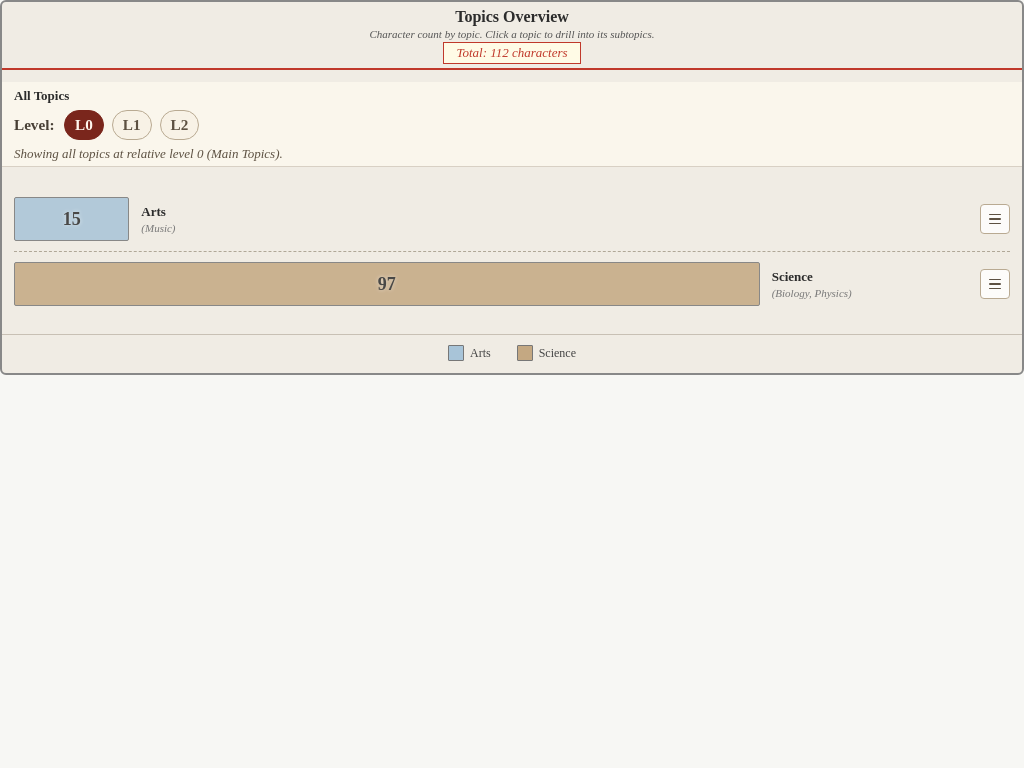
TopicsBarChart › opens a modal with the scoped topic sentences
Click the button named "View sentences for Science": coordinates (995, 284) x1=980 y1=269 x2=1010 y2=299
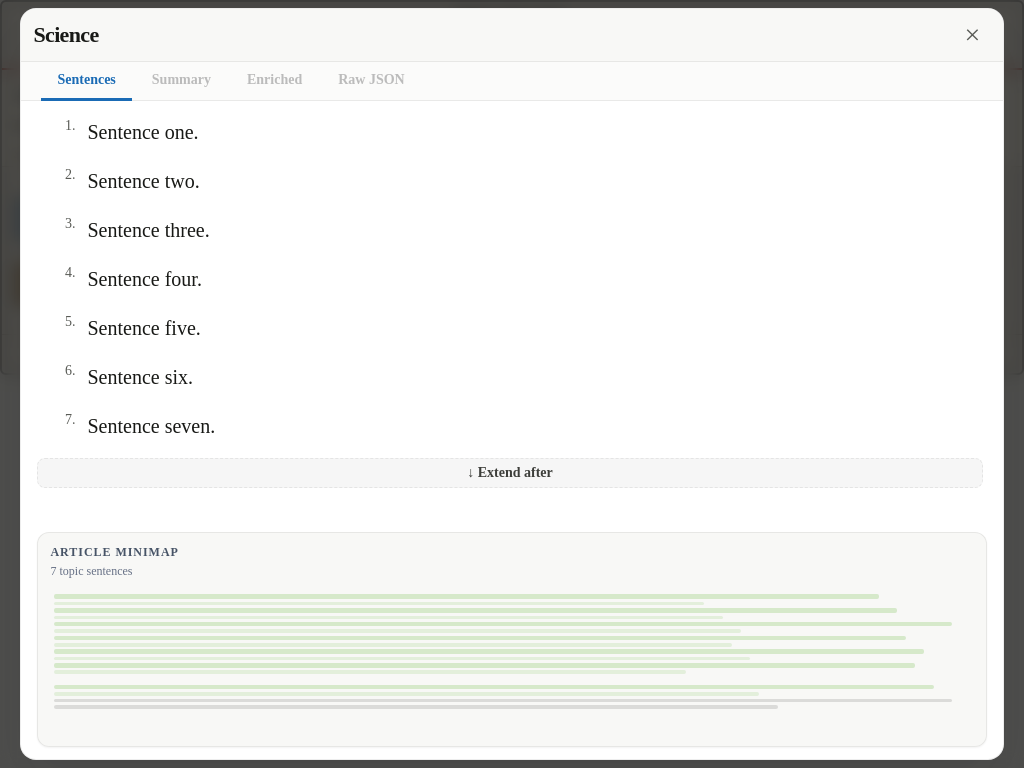
Result: the heading "Science" is shown at x1=34 y1=22 x2=98 y2=48
Result: the text "1." is shown at x1=65 y1=118 x2=76 y2=133
Result: the text "Sentence one." is shown at x1=88 y1=115 x2=199 y2=150
